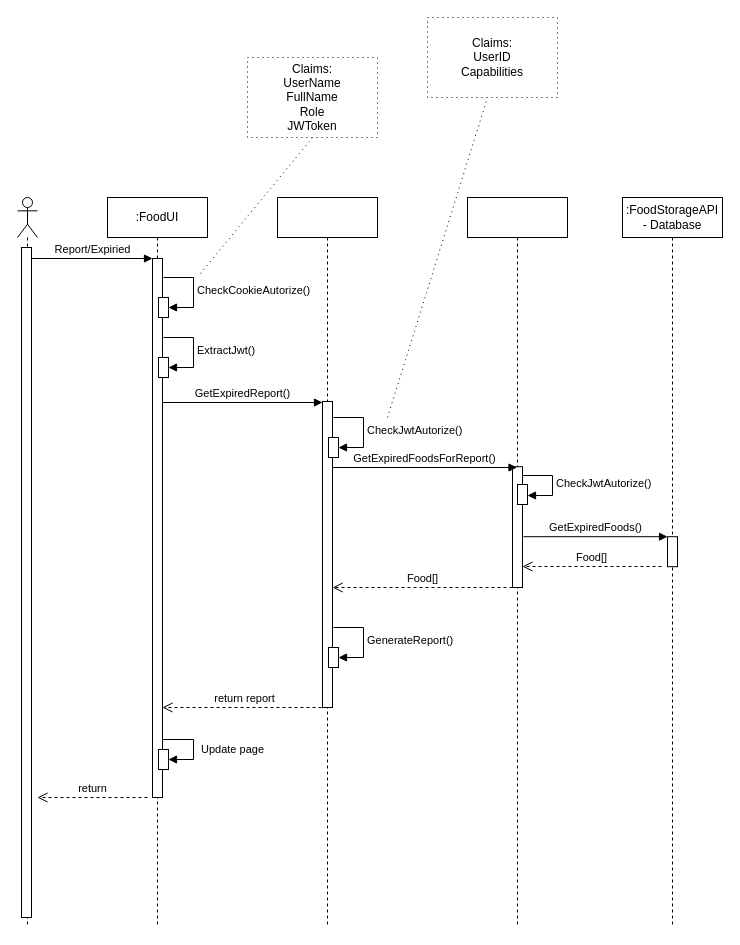
Image size: 740x945. Some labels were removed from this diagram. Here are the shapes that lost their labels. From the top down, the box of each, then its label:
(276, 196, 378, 928): :FoodPlannerAPI
(466, 196, 568, 928): :FoodStorageAPI
